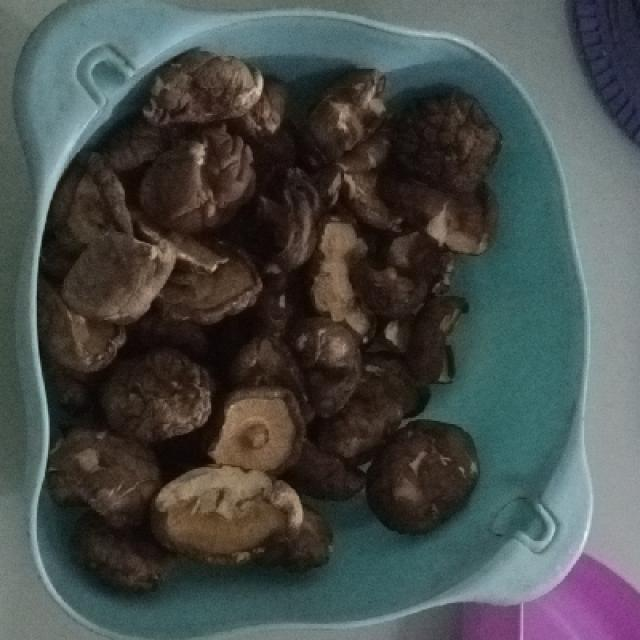Lentinus edodes: (66, 48, 496, 573)
